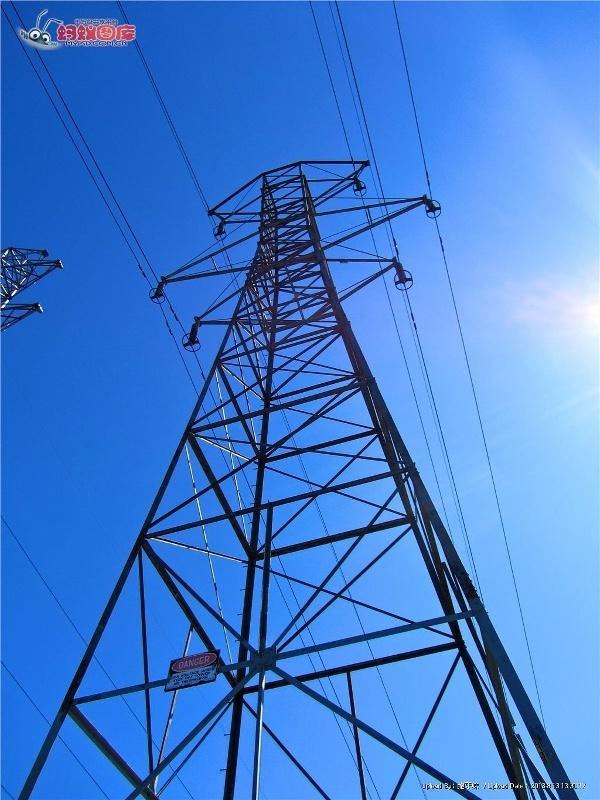power_tower: (62, 191, 554, 780)
